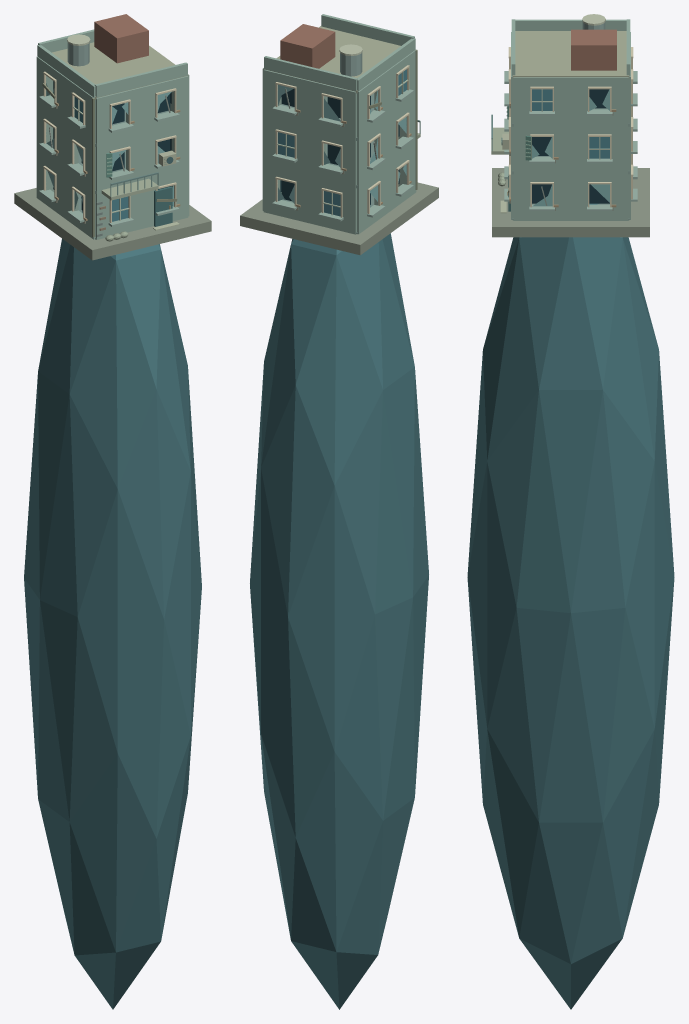
The model's file is house_04.glb.
3 views of the same model, side by side, from view 1: azimuth 30°, elevation 25°; view 2: azimuth 150°, elevation 25°; view 3: azimuth 270°, elevation 25° (orthographic).
Parts seen in each view (by area): view 1: house_04; view 2: house_04; view 3: house_04.
Boxes of the visible parts, bbox=[...] form: house_04: bbox=[14, 14, 211, 1009]; house_04: bbox=[240, 14, 438, 1009]; house_04: bbox=[467, 14, 674, 1009].
Bounding box in the file's own units: 10.4 × 65.97 × 12.6.
